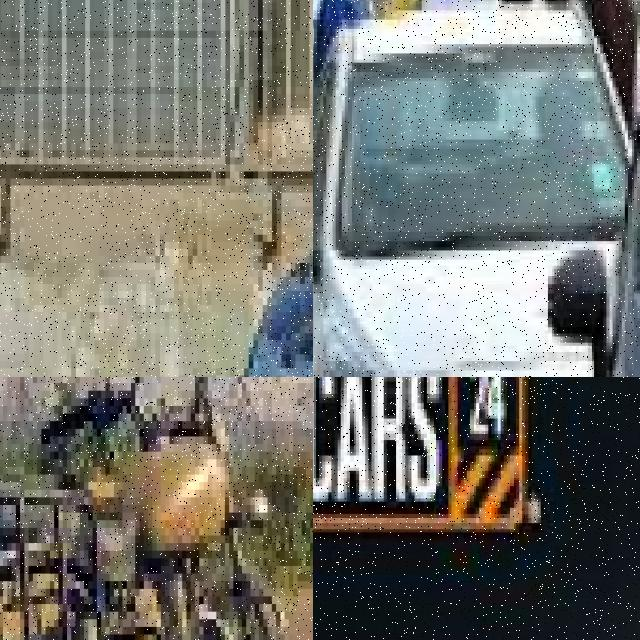bike: (0, 377, 313, 640), (24, 171, 313, 377)
car: (313, 0, 640, 377), (569, 0, 640, 377)
